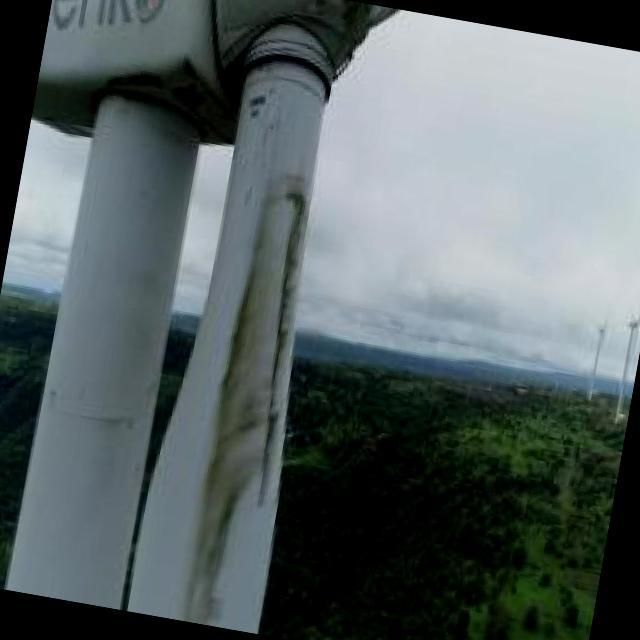Dirt: (185, 71, 316, 638)
